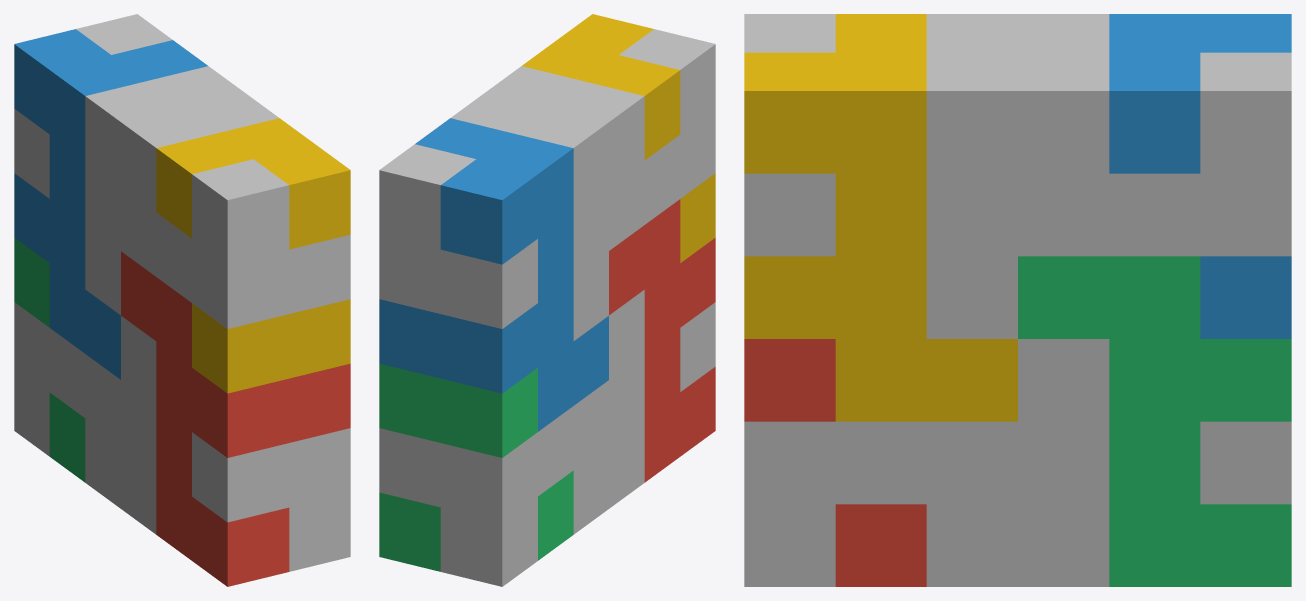
Rendered from tiling.obj.
3 views of the same model, side by side, from view 1: azimuth 30°, elevation 25°; view 2: azimuth 150°, elevation 25°; view 3: azimuth 270°, elevation 25° (orthographic). The views are drawn at different scales.
Visible parts, largest first — view 1: copy_6, copy_1, copy_4, copy_2, copy_7, copy_5, copy_8, copy_3; view 2: copy_2, copy_5, copy_8, copy_6, copy_3, copy_1, copy_4, copy_7; view 3: copy_8, copy_4, copy_7, copy_3, copy_6, copy_2, copy_5, copy_1.
Boxes of the visible parts, left/top/right/bottom form: copy_6: left=85, top=92, right=350, bottom=328; copy_1: left=121, top=251, right=350, bottom=586; copy_4: left=156, top=118, right=350, bottom=393; copy_2: left=14, top=29, right=207, bottom=379; copy_7: left=121, top=428, right=350, bottom=571; copy_5: left=14, top=302, right=156, bottom=508; copy_8: left=14, top=14, right=243, bottom=198; copy_3: left=14, top=238, right=85, bottom=482; copy_2: left=379, top=118, right=608, bottom=431; copy_5: left=379, top=290, right=644, bottom=586; copy_8: left=379, top=92, right=608, bottom=328; copy_6: left=486, top=29, right=715, bottom=340; copy_3: left=379, top=363, right=573, bottom=571; copy_1: left=609, top=199, right=715, bottom=482; copy_4: left=522, top=14, right=715, bottom=262; copy_7: left=609, top=302, right=715, bottom=508; copy_8: left=926, top=14, right=1291, bottom=338; copy_4: left=744, top=14, right=1017, bottom=421; copy_7: left=744, top=339, right=1109, bottom=586; copy_3: left=1018, top=256, right=1291, bottom=586; copy_6: left=744, top=14, right=1017, bottom=256; copy_2: left=1109, top=14, right=1291, bottom=338; copy_5: left=1018, top=421, right=1291, bottom=586; copy_1: left=744, top=339, right=926, bottom=586.
Bounding box in the file's own units: 2 × 6 × 6.
